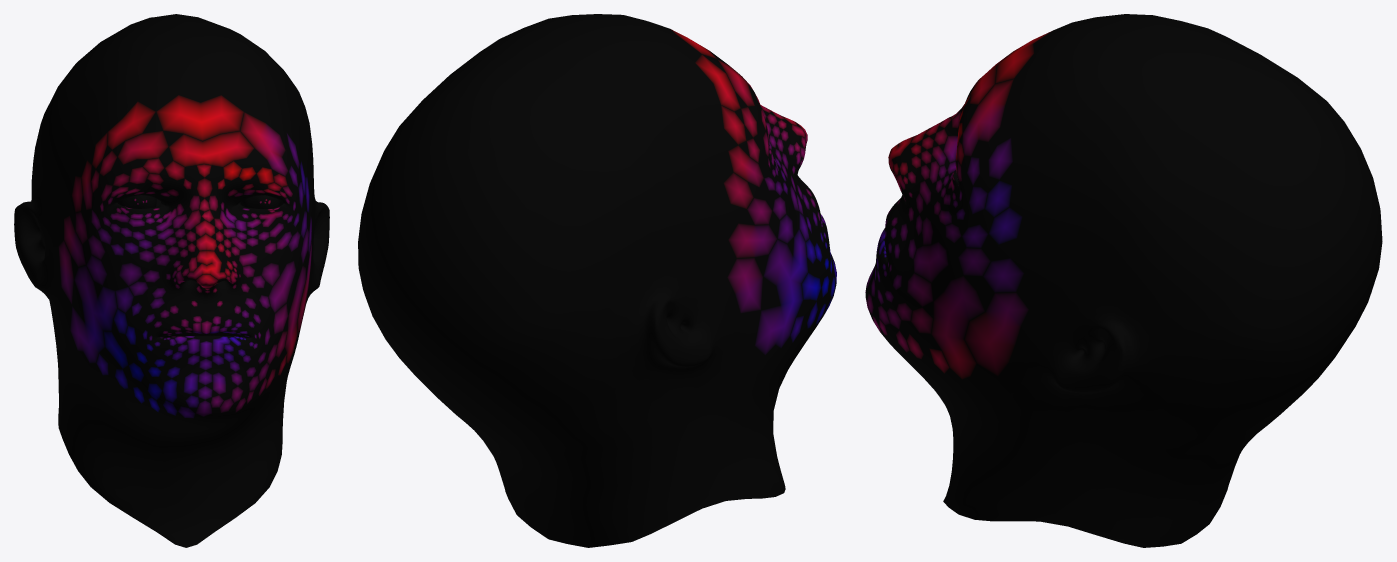
Rendered from colored_ulker.obj.
3 views of the same model, side by side, from view 1: azimuth 30°, elevation 25°; view 2: azimuth 150°, elevation 25°; view 3: azimuth 270°, elevation 25° (orthographic). The views are drawn at different scales.
Bounding box in the file's own units: 0.9147 × 1.36 × 1.25.
